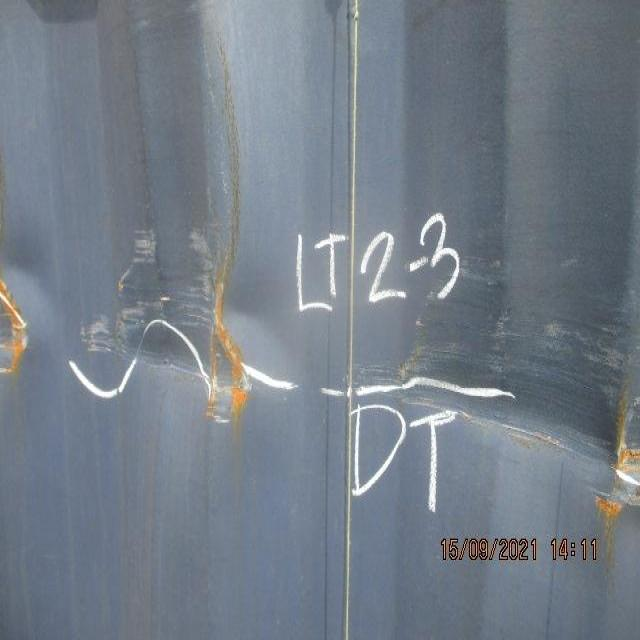dent: (4, 86, 637, 556)
